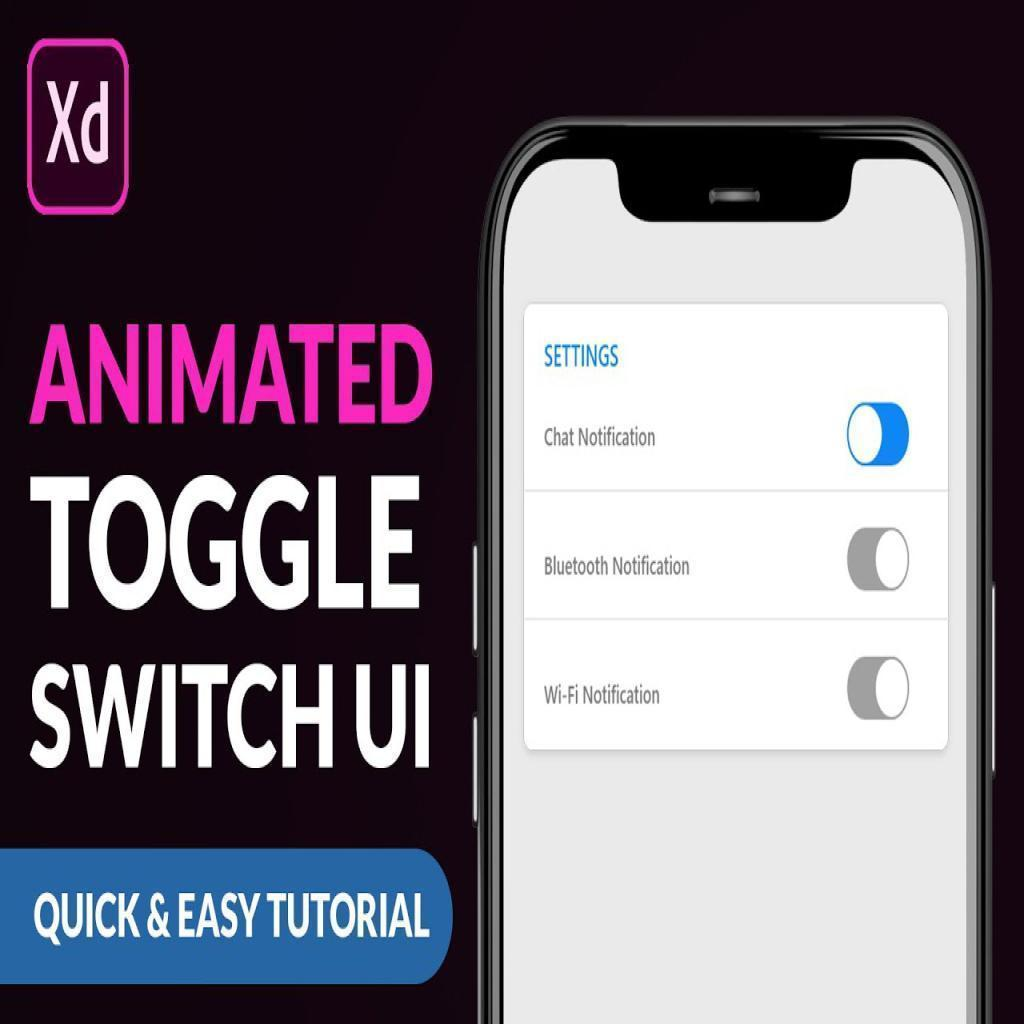label: (540, 548, 694, 594), (533, 423, 662, 460), (535, 679, 664, 712), (535, 337, 632, 378)
switch: (846, 527, 915, 591), (848, 401, 914, 467), (849, 656, 912, 722)
